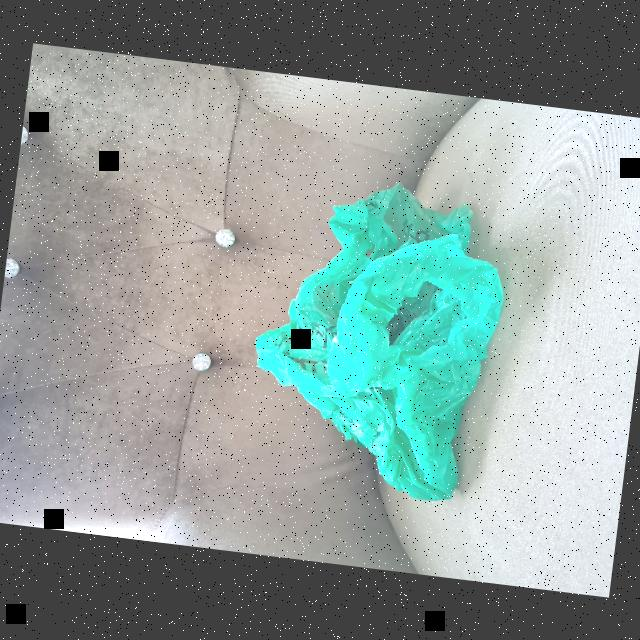plastic_bag: (236, 165, 517, 507)
